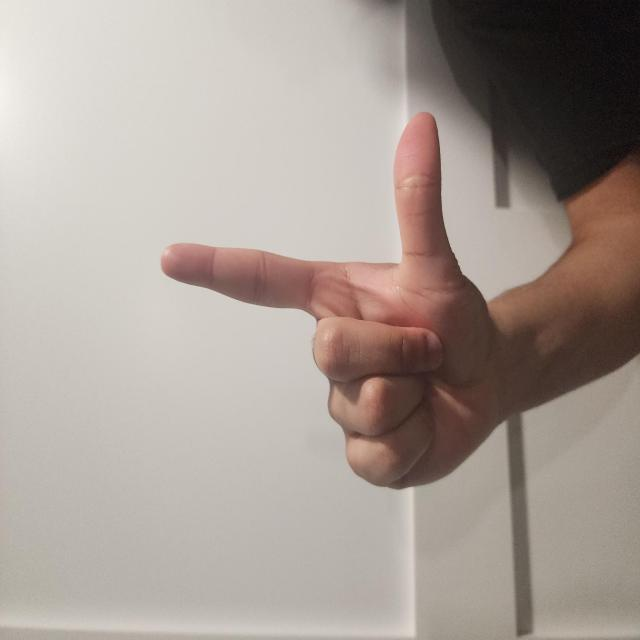L: (106, 209, 398, 640)
